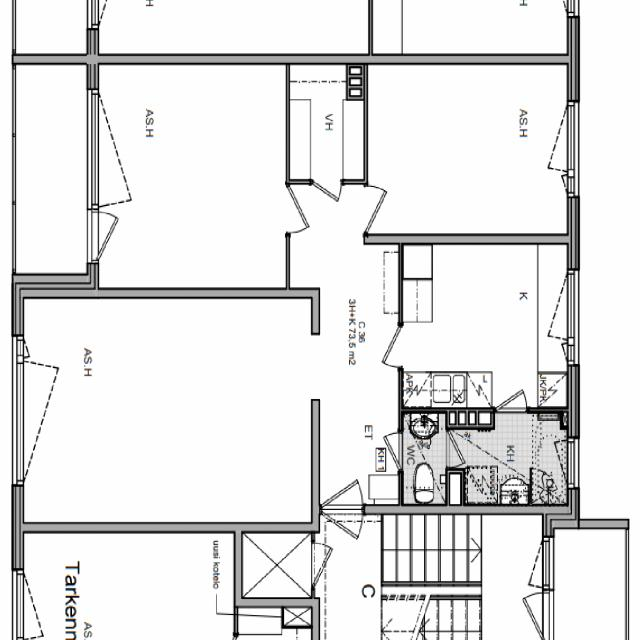door: (86, 212, 139, 262), (320, 454, 362, 514), (320, 504, 362, 564), (285, 186, 328, 233), (363, 186, 405, 232), (363, 326, 402, 367), (367, 432, 402, 470), (312, 178, 342, 220), (446, 431, 480, 466)
